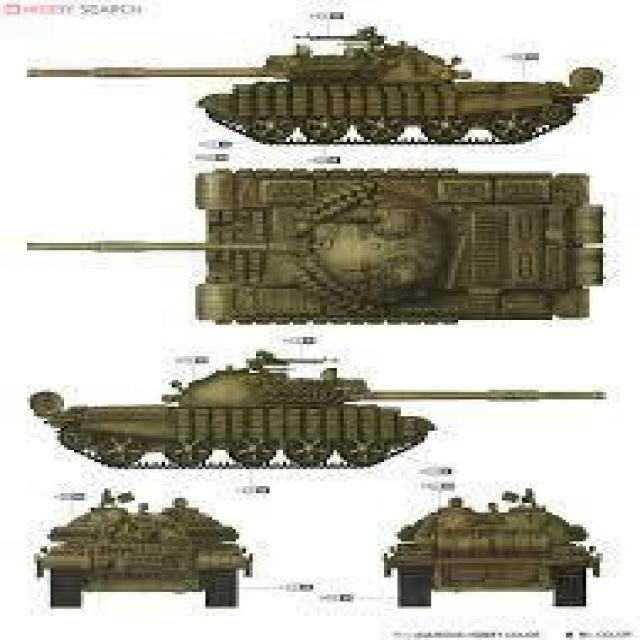MIL_MBT: (190, 152, 608, 356), (197, 22, 591, 137), (27, 367, 428, 468), (27, 482, 253, 622), (386, 478, 601, 617)
